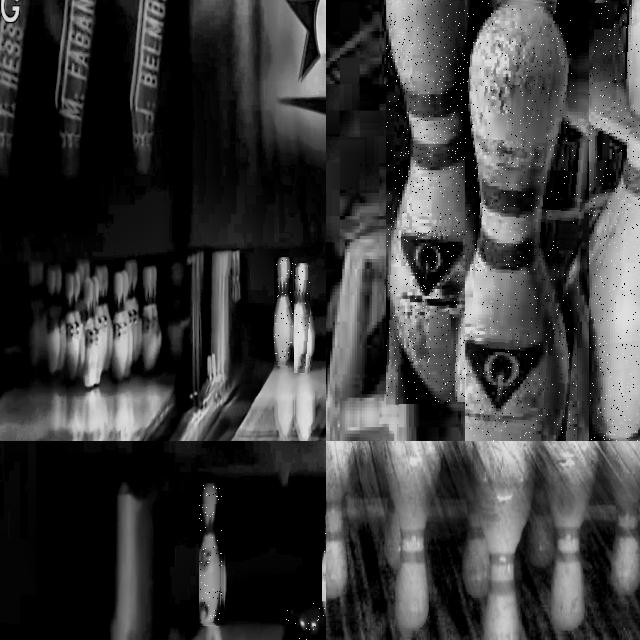bowling-ball: (285, 603, 326, 640)
bowling-pins: (465, 2, 578, 441), (387, 0, 493, 403), (200, 484, 222, 623), (274, 257, 293, 364), (294, 264, 310, 370)
